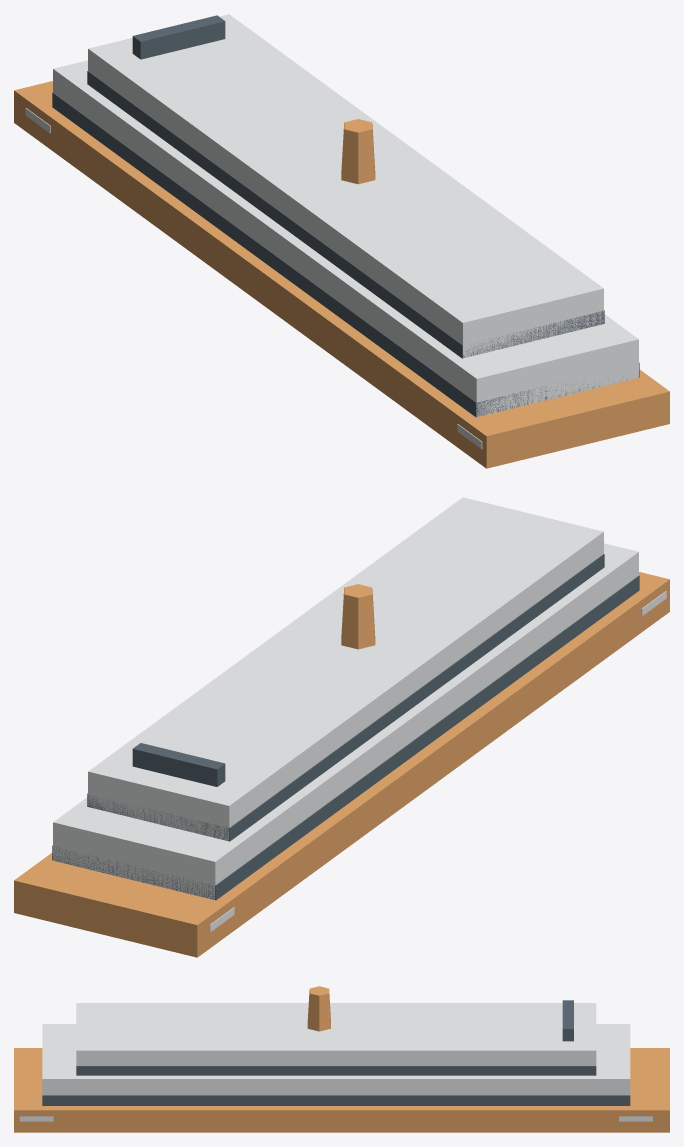
The model's file is city_ferry.glb.
The picture shows the model from 3 angles, top to bottom: view 1: azimuth 30°, elevation 25°; view 2: azimuth 150°, elevation 25°; view 3: azimuth 270°, elevation 25°; orthographic projection. The views are drawn at different scales.
Visible parts, largest first — view 1: city_ferry_bus_white, city_ferry_ferry_orange, city_ferry_glass_dark; view 2: city_ferry_bus_white, city_ferry_ferry_orange, city_ferry_glass_dark; view 3: city_ferry_bus_white, city_ferry_ferry_orange, city_ferry_glass_dark.
Part boxes in pixels (<box>): city_ferry_bus_white: <box>25,14,638,449</box>; city_ferry_ferry_orange: <box>14,81,669,468</box>; city_ferry_glass_dark: <box>52,15,639,417</box>; city_ferry_bus_white: <box>53,497,666,932</box>; city_ferry_ferry_orange: <box>14,572,669,957</box>; city_ferry_glass_dark: <box>52,554,639,900</box>; city_ferry_bus_white: <box>19,1003,652,1121</box>; city_ferry_ferry_orange: <box>14,986,669,1132</box>; city_ferry_glass_dark: <box>42,1000,630,1105</box>.
Size of the model in its own units: 13.1 by 10.8 by 58.
